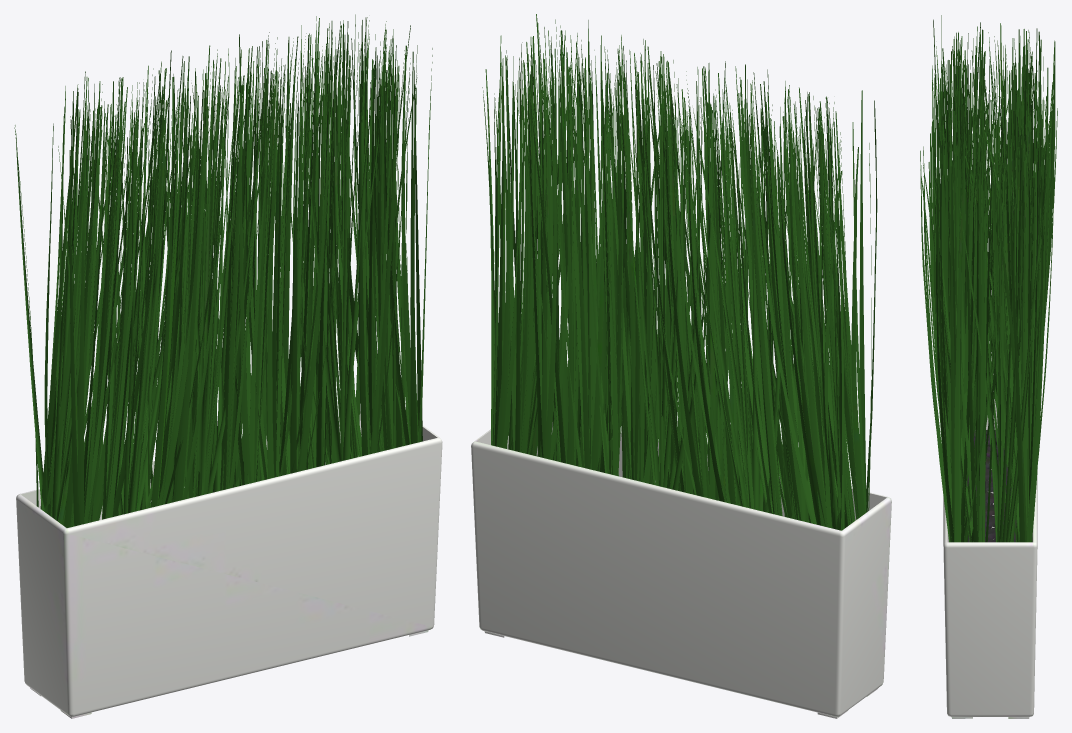
Rendered from fejka_sztuczna_roslina_w_doniczce_10508456.glb.
3 views of the same model, side by side, from view 1: azimuth 30°, elevation 25°; view 2: azimuth 150°, elevation 25°; view 3: azimuth 270°, elevation 25° (orthographic). The views are drawn at different scales.
Visible parts, largest first — view 1: fejka_sztuczna_roslina_w_doniczce_10508456; view 2: fejka_sztuczna_roslina_w_doniczce_10508456; view 3: fejka_sztuczna_roslina_w_doniczce_10508456.
Boxes of the visible parts, x1,y1,x2,y2 form: fejka_sztuczna_roslina_w_doniczce_10508456: (14, 14, 442, 718); fejka_sztuczna_roslina_w_doniczce_10508456: (471, 14, 891, 718); fejka_sztuczna_roslina_w_doniczce_10508456: (920, 15, 1057, 718).
Size of the model in its own units: 0.2798 by 0.4185 by 0.0948.
Materials: 1 (1 with a texture image).
